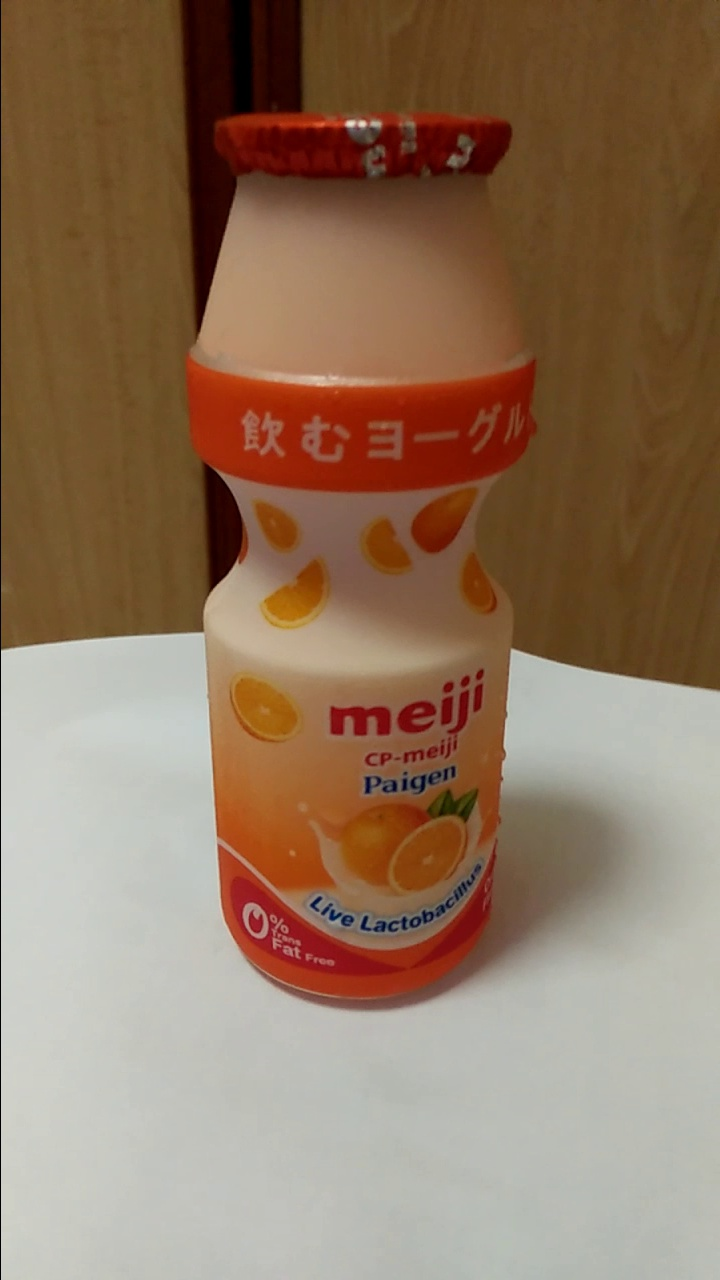milk: (197, 123, 517, 1002)
